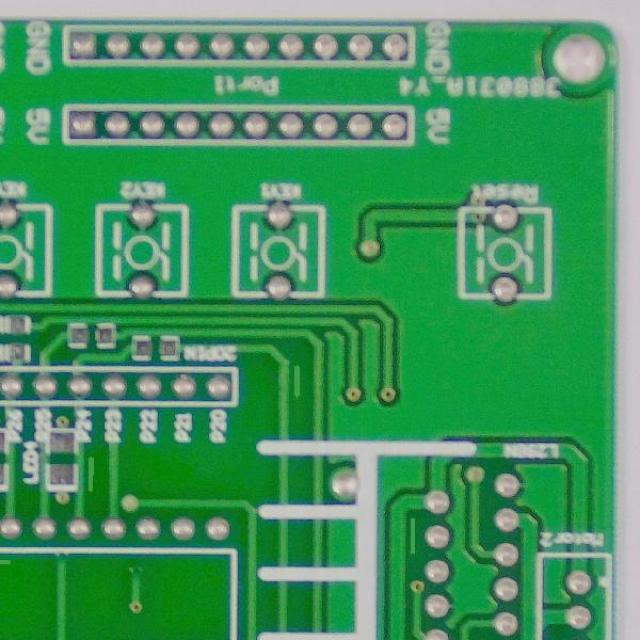Spurious_Cooper: (83, 450, 98, 495), (406, 513, 420, 558), (290, 360, 304, 401), (0, 557, 15, 568)
